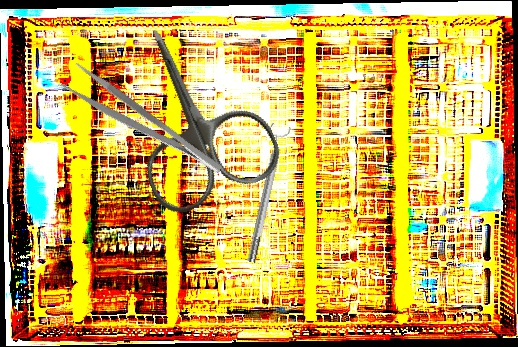Dressing Forceps: (59, 59, 226, 190)
Fixation Ring: (239, 122, 293, 265)
Iris Scissors: (95, 3, 288, 221)
